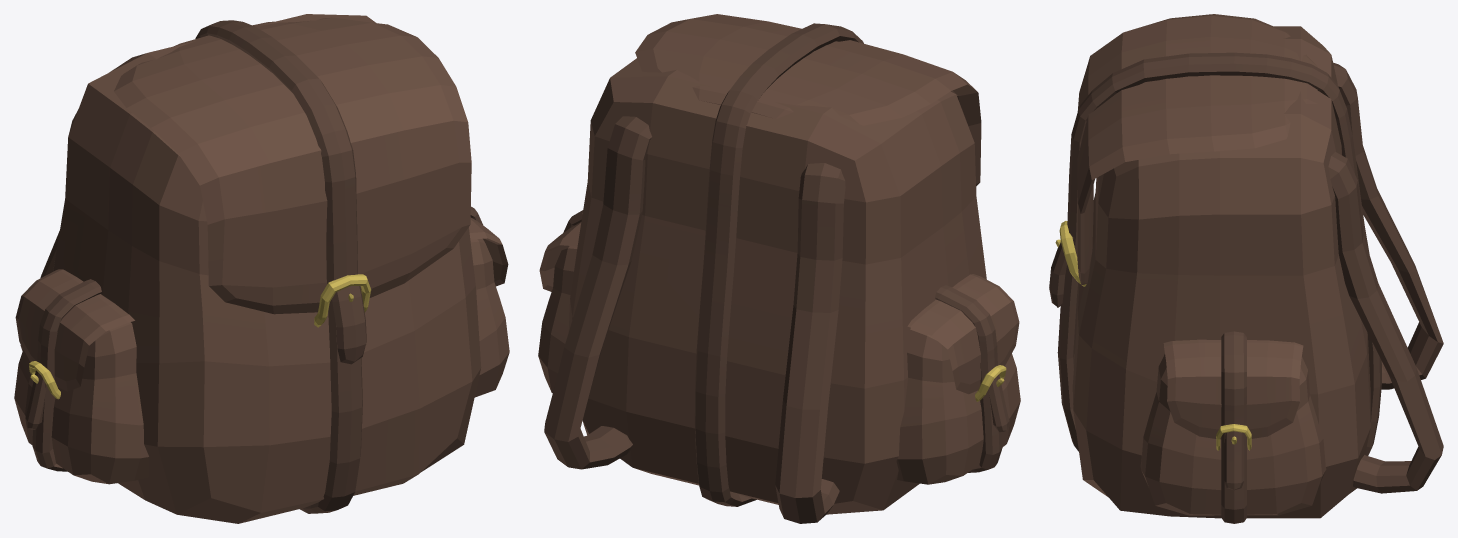
File: HandBackPack.fbx
3 renders of one model, left to right at view 1: azimuth 30°, elevation 25°; view 2: azimuth 150°, elevation 25°; view 3: azimuth 270°, elevation 25°, orthographic. The views are drawn at different scales.
Visible parts, largest first — view 1: Backpack__1_; view 2: Backpack__1_; view 3: Backpack__1_.
Boxes of the visible parts, x1,y1,x2,y2 form: Backpack__1_: (14, 14, 509, 523); Backpack__1_: (538, 14, 1020, 523); Backpack__1_: (1049, 14, 1443, 523).
Size of the model in its own units: 182 by 162 by 137.
